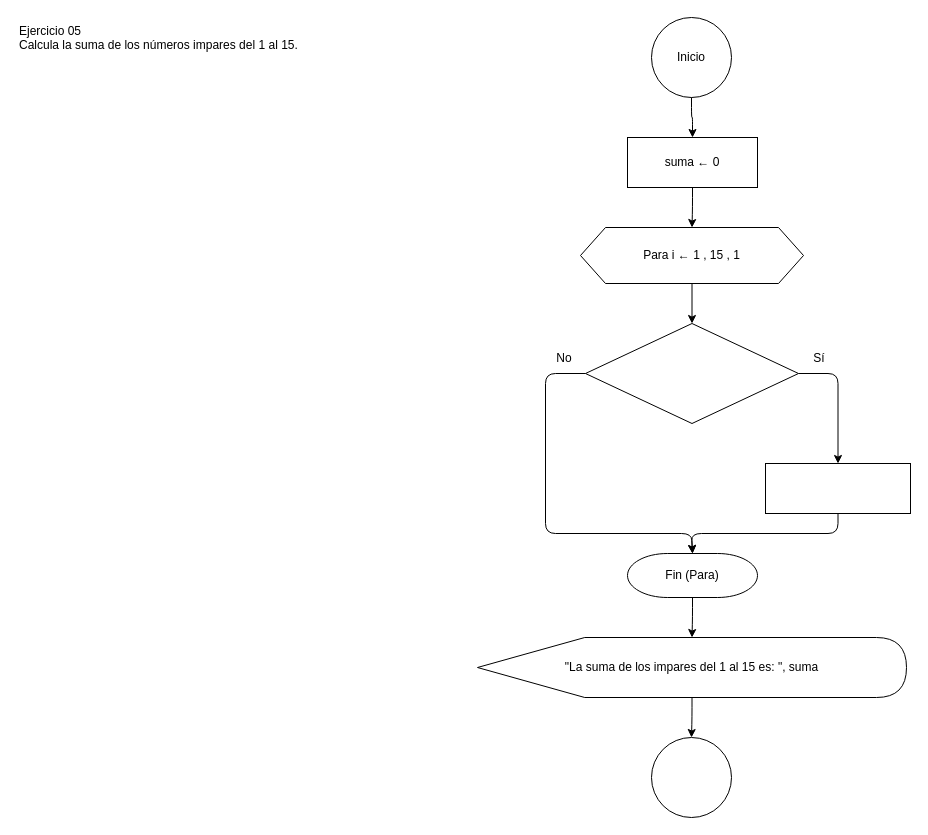
Some shapes in this 928 by 835 pixel diagram are drawn without their labels. Here are the shapes that lost their labels. From the top down, the centre of each, then its label:
At (x=691, y=373): "i mod 2 != 0".
At (x=837, y=488): "suma ← suma + i".
At (x=691, y=777): "Fin".
